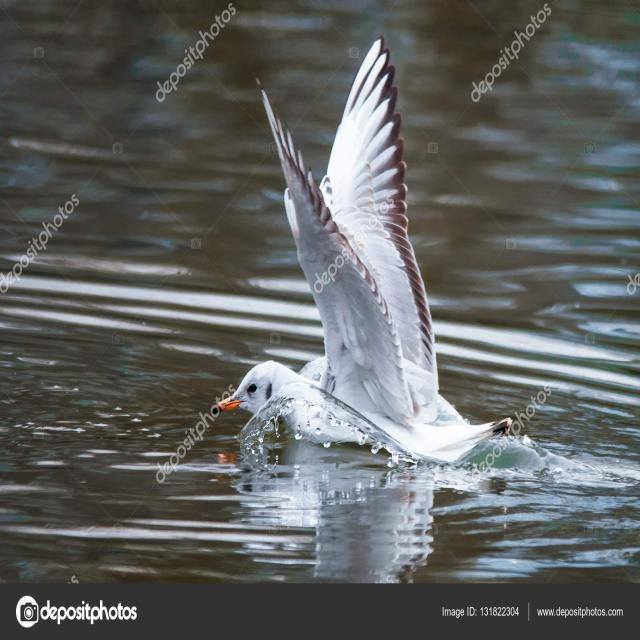bird: (207, 36, 514, 451)
